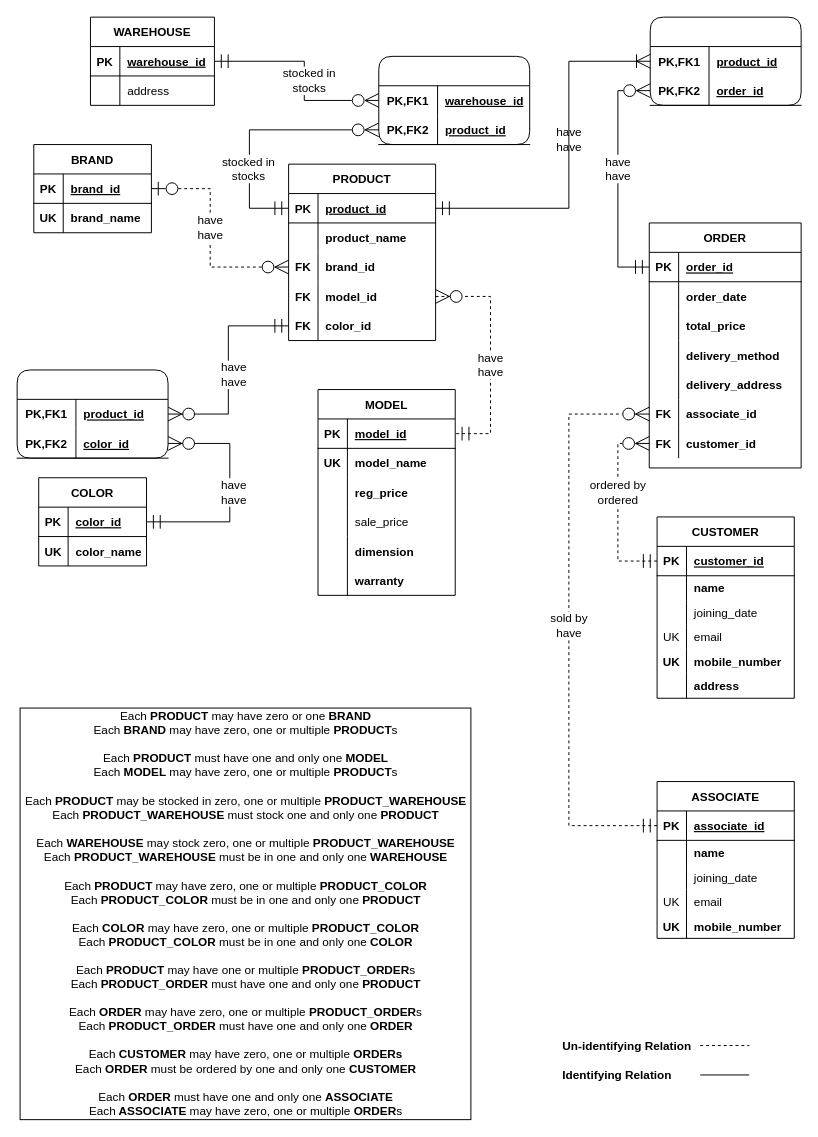
Some shapes in this 818 by 1137 pixel diagram are drawn without their labels. The box of each missing label's shape, as (x1, y1, x2, y2) in pixels:
PRODUCT_COLOR: (16, 369, 168, 458)
PRODUCT_ORDER: (649, 16, 801, 105)
PRODUCT_WAREHOUSE: (378, 55, 530, 145)
